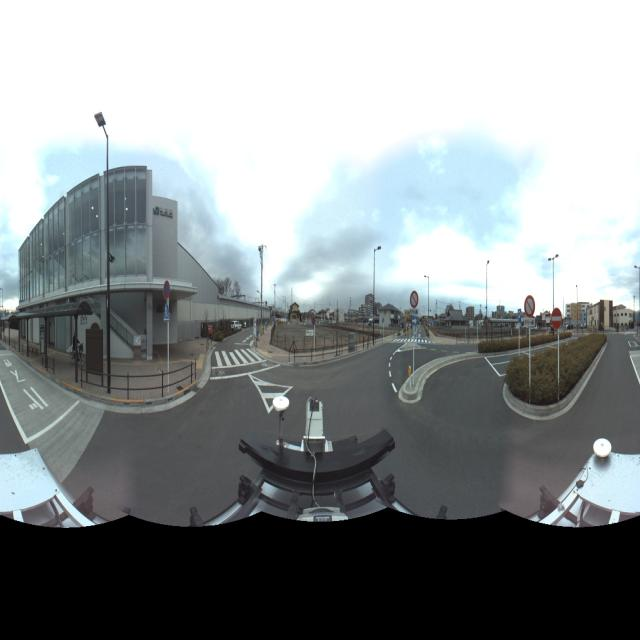b_1: (10, 149, 206, 391), (584, 294, 615, 336), (566, 300, 594, 338), (381, 302, 406, 344), (366, 290, 386, 339), (612, 301, 636, 340)
